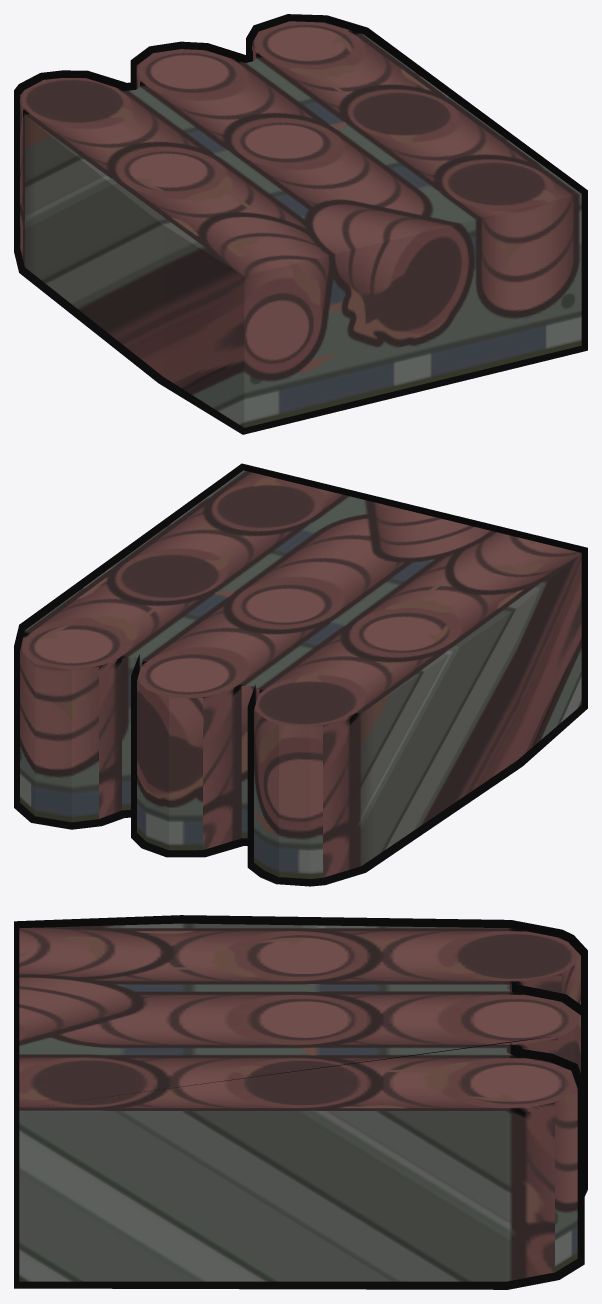
The model's file is Building_AncientChembarrel_Things_Building_Ancient_Chemfuel_AncientChembarrelPallet_AncientChembarrelPalletB.glb.
3 renders of one model, top to bottom at view 1: azimuth 30°, elevation 25°; view 2: azimuth 150°, elevation 25°; view 3: azimuth 270°, elevation 25°, orthographic. The views are drawn at different scales.
Visible parts, largest first — view 1: Body, Outline; view 2: Body, Outline; view 3: Body, Outline.
Part boxes in pixels (bbox=[...]): Body: bbox=[20, 21, 581, 427]; Outline: bbox=[14, 14, 587, 434]; Body: bbox=[20, 470, 581, 878]; Outline: bbox=[14, 463, 587, 886]; Body: bbox=[19, 923, 580, 1281]; Outline: bbox=[14, 915, 587, 1289].
Size of the model in its own units: 1.98 by 0.873 by 2.47.
Materials: 2 (1 with a texture image).
